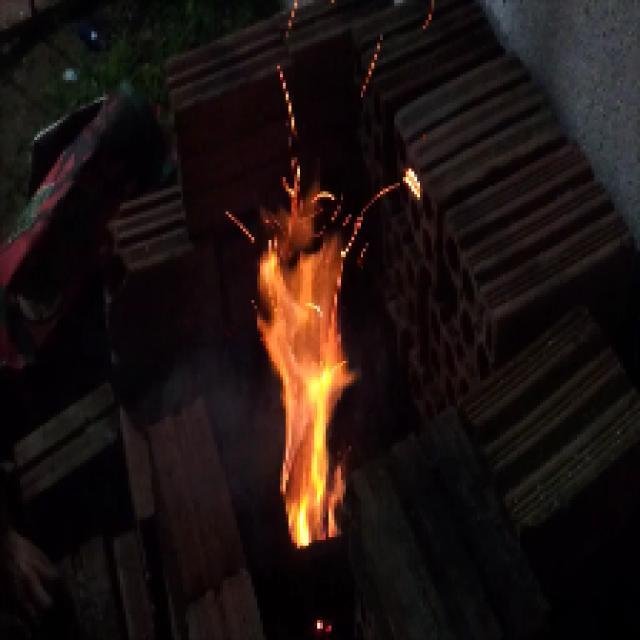Fire: (238, 197, 377, 537)
